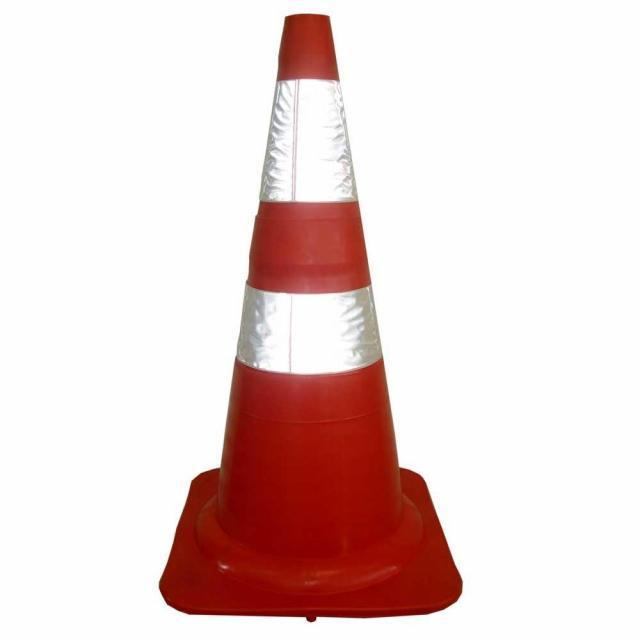traffic cone: (156, 11, 464, 621)
